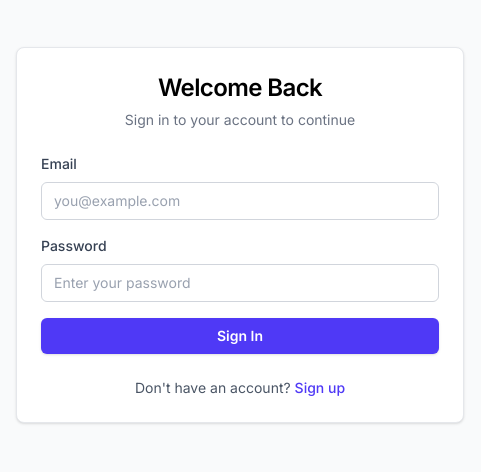
Test: LoginPage › displays error message on failed submission
Type "wrong@example.com" into the field labelled "Email".
click(240, 201); type("wrong@example.com")  # box x1=41 y1=182 x2=439 y2=220
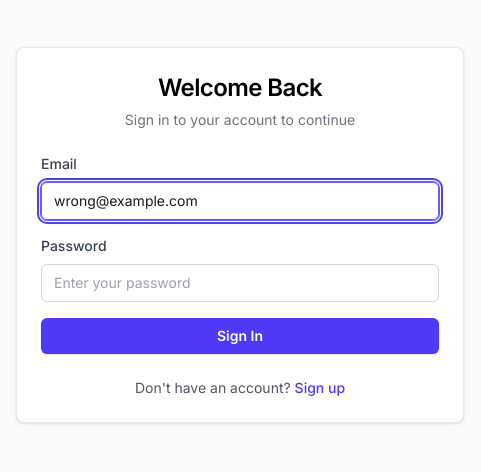
Type "wrongpassword" into the password field labelled "Password".
click(240, 283); type("wrongpassword")  # box x1=41 y1=264 x2=439 y2=302
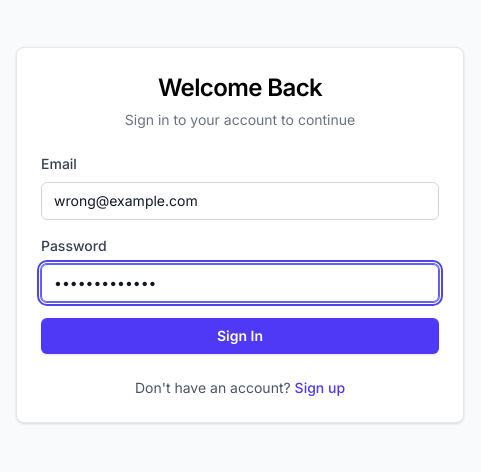
Click the button "Sign In".
click(240, 336)  # box x1=41 y1=318 x2=439 y2=354
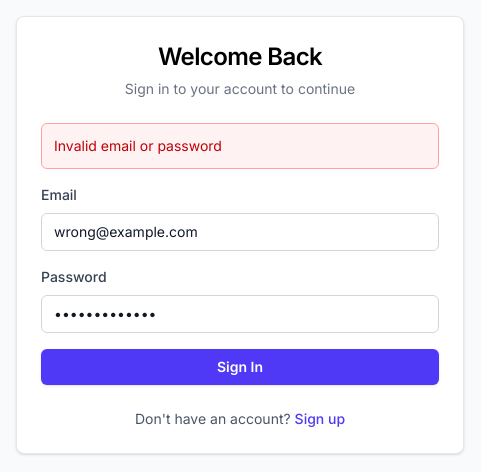
Result: the text "Invalid email or password" is shown at x1=41 y1=123 x2=439 y2=169
